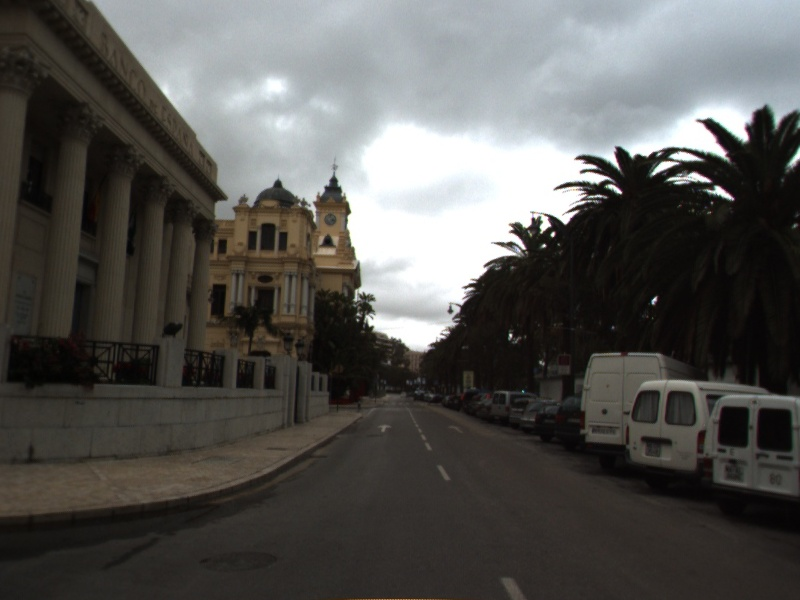STRAIGHT: (446, 423, 466, 435), (375, 422, 394, 433)
